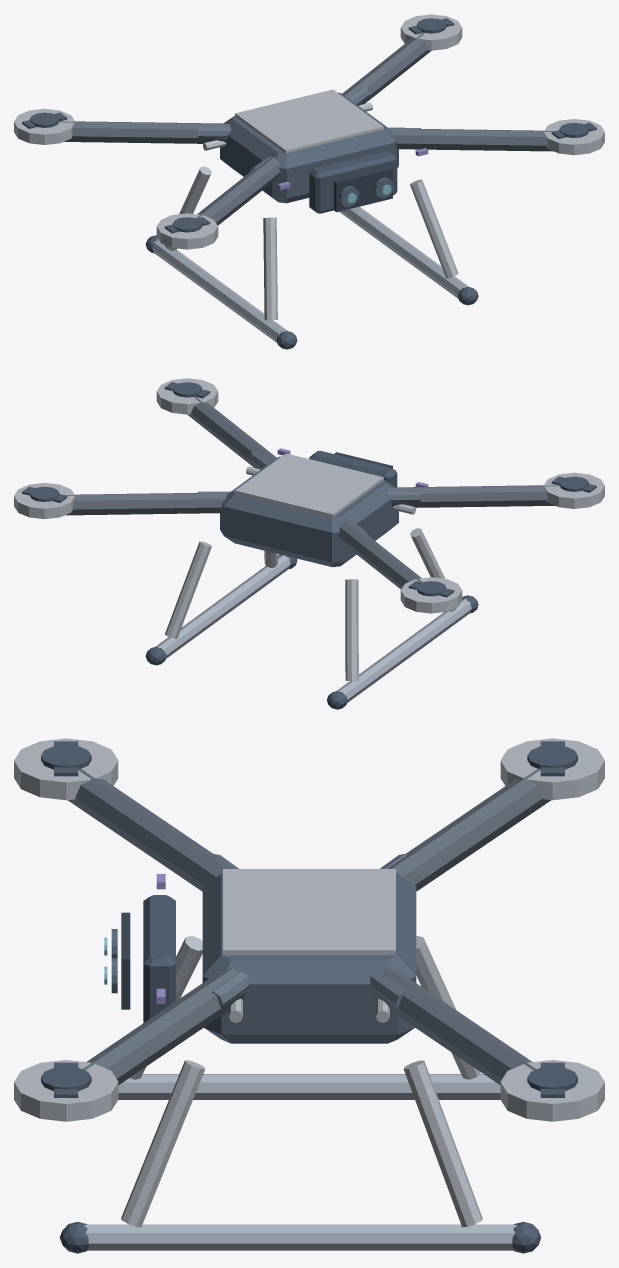
The model's file is frame-carbon.glb.
3 renders of one model, top to bottom at view 1: azimuth 30°, elevation 25°; view 2: azimuth 150°, elevation 25°; view 3: azimuth 270°, elevation 25°, orthographic. The views are drawn at different scales.
Parts seen in each view (by area): view 1: 000_central_carbon, 001_top_service_plate, 021_carbon_arm, 006_carbon_arm, 028_landing_skid, 036_camera_module, 033_landing_skid, 016_carbon_arm, 011_carbon_arm, 027_landing_leg, 032_landing_leg, 017_motor_mount (+5 smaller); view 2: 000_central_carbon, 001_top_service_plate, 011_carbon_arm, 016_carbon_arm, 028_landing_skid, 033_landing_skid, 006_carbon_arm, 021_carbon_arm, 007_motor_mount, 026_landing_leg, 031_landing_leg, 017_motor_mount (+4 smaller); view 3: 000_central_carbon, 001_top_service_plate, 033_landing_skid, 028_landing_skid, 006_carbon_arm, 016_carbon_arm, 011_carbon_arm, 021_carbon_arm, 012_motor_mount, 022_motor_mount, 032_landing_leg, 031_landing_leg (+14 smaller).
Part boxes in pixels (x1=…): 000_central_carbon: x1=220, y1=92, x2=398, y2=203; 001_top_service_plate: x1=235, y1=89, x2=383, y2=153; 021_carbon_arm: x1=389, y1=128, x2=554, y2=151; 006_carbon_arm: x1=59, y1=121, x2=229, y2=143; 028_landing_skid: x1=152, y1=239, x2=287, y2=342; 036_camera_module: x1=309, y1=151, x2=397, y2=213; 033_landing_skid: x1=339, y1=206, x2=468, y2=298; 016_carbon_arm: x1=196, y1=157, x2=280, y2=225; 011_carbon_arm: x1=342, y1=32, x2=431, y2=105; 027_landing_leg: x1=263, y1=217, x2=277, y2=320; 032_landing_leg: x1=410, y1=179, x2=458, y2=278; 017_motor_mount: x1=156, y1=213, x2=218, y2=249; 000_central_carbon: x1=220, y1=456, x2=398, y2=567; 001_top_service_plate: x1=235, y1=453, x2=383, y2=517; 011_carbon_arm: x1=64, y1=492, x2=228, y2=515; 016_carbon_arm: x1=389, y1=485, x2=559, y2=507; 028_landing_skid: x1=336, y1=598, x2=471, y2=702; 033_landing_skid: x1=155, y1=555, x2=290, y2=658; 006_carbon_arm: x1=338, y1=520, x2=422, y2=589; 021_carbon_arm: x1=187, y1=396, x2=276, y2=469; 007_motor_mount: x1=400, y1=577, x2=462, y2=613; 026_landing_leg: x1=345, y1=579, x2=358, y2=680; 031_landing_leg: x1=165, y1=541, x2=211, y2=638; 017_motor_mount: x1=544, y1=472, x2=604, y2=508; 000_central_carbon: x1=202, y1=873, x2=416, y2=1043; 001_top_service_plate: x1=223, y1=869, x2=395, y2=955; 033_landing_skid: x1=84, y1=1224, x2=516, y2=1250; 028_landing_skid: x1=118, y1=1074, x2=500, y2=1099; 006_carbon_arm: x1=387, y1=768, x2=551, y2=891; 016_carbon_arm: x1=67, y1=768, x2=231, y2=891; 011_carbon_arm: x1=371, y1=968, x2=536, y2=1085; 021_carbon_arm: x1=82, y1=968, x2=247, y2=1085; 012_motor_mount: x1=500, y1=1060, x2=604, y2=1121; 022_motor_mount: x1=14, y1=1060, x2=118, y2=1121; 032_landing_leg: x1=121, y1=1060, x2=205, y2=1227; 031_landing_leg: x1=403, y1=1060, x2=482, y2=1227.
Size of the model in its own units: 5.3 by 1.8 by 3.62.
